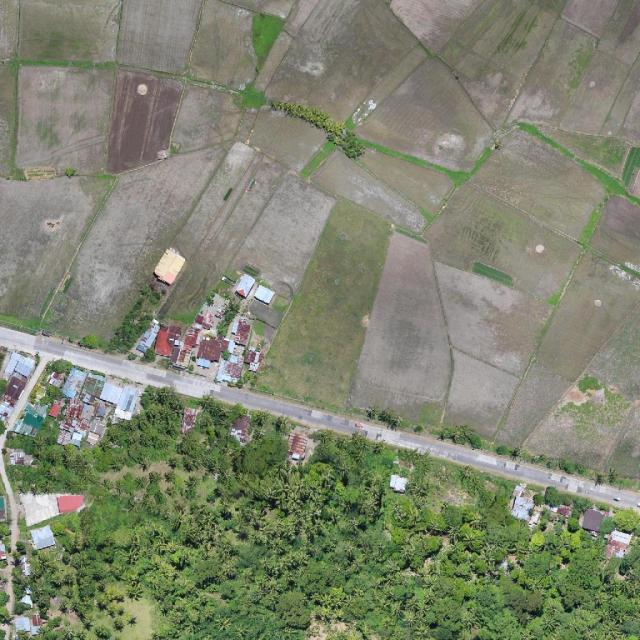agricultural_land: (270, 85, 371, 163)
building: (129, 290, 269, 412), (11, 351, 144, 469), (20, 487, 64, 527)
